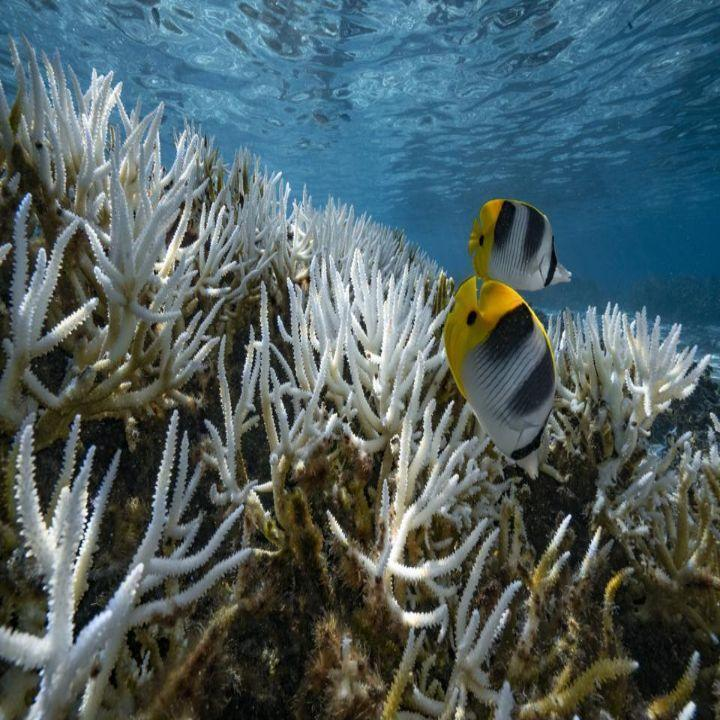Bleached-disease: (0, 48, 514, 720), (494, 284, 714, 528)
